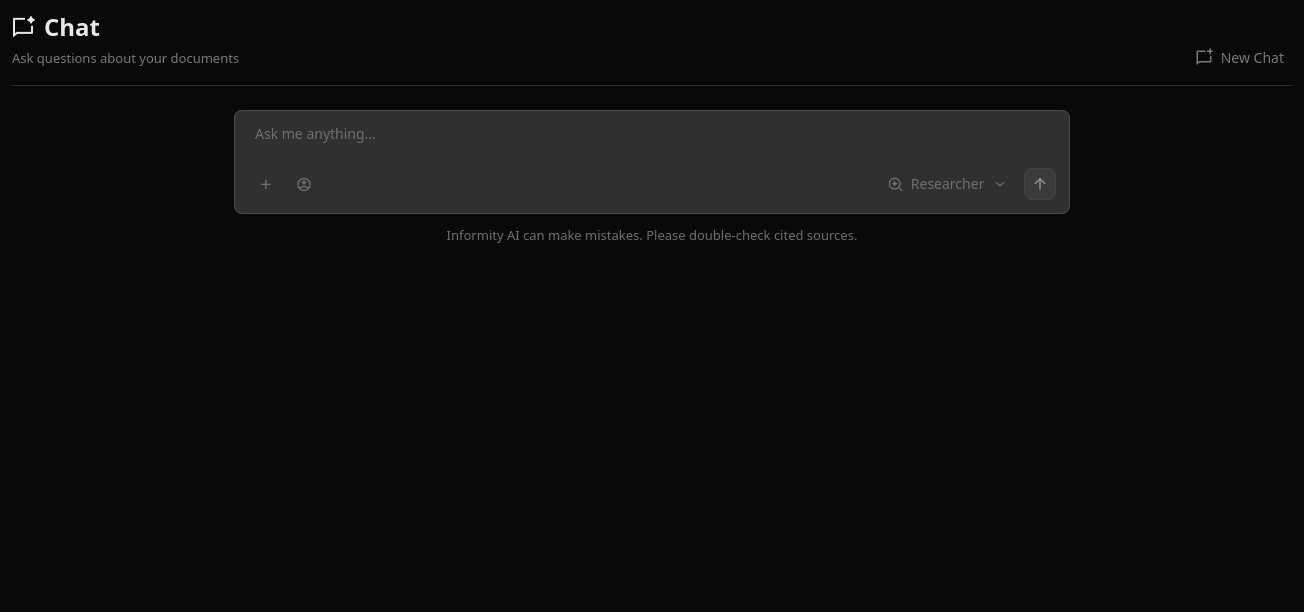
Test case: ChatView new chat behavior › submits edited text through normal stream send flow
In the text box named "Chat message input": (652, 162) [234, 110, 1070, 214], type "Original prompt"
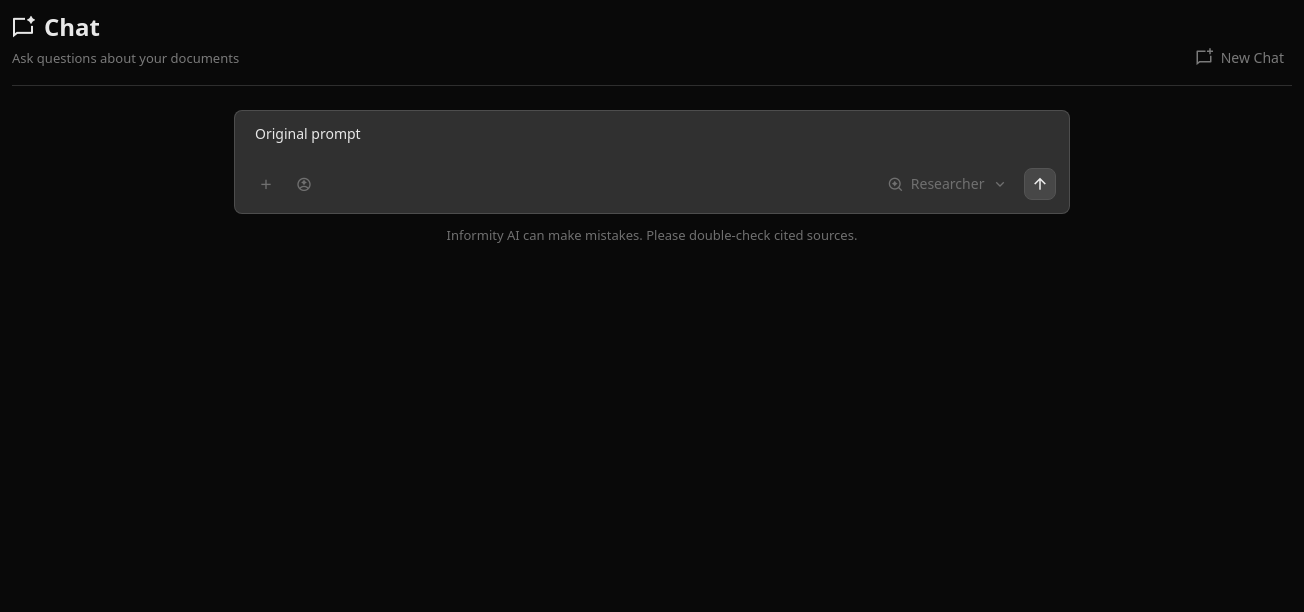
Click the button named "Send message": (1040, 184) [1024, 168, 1056, 200]
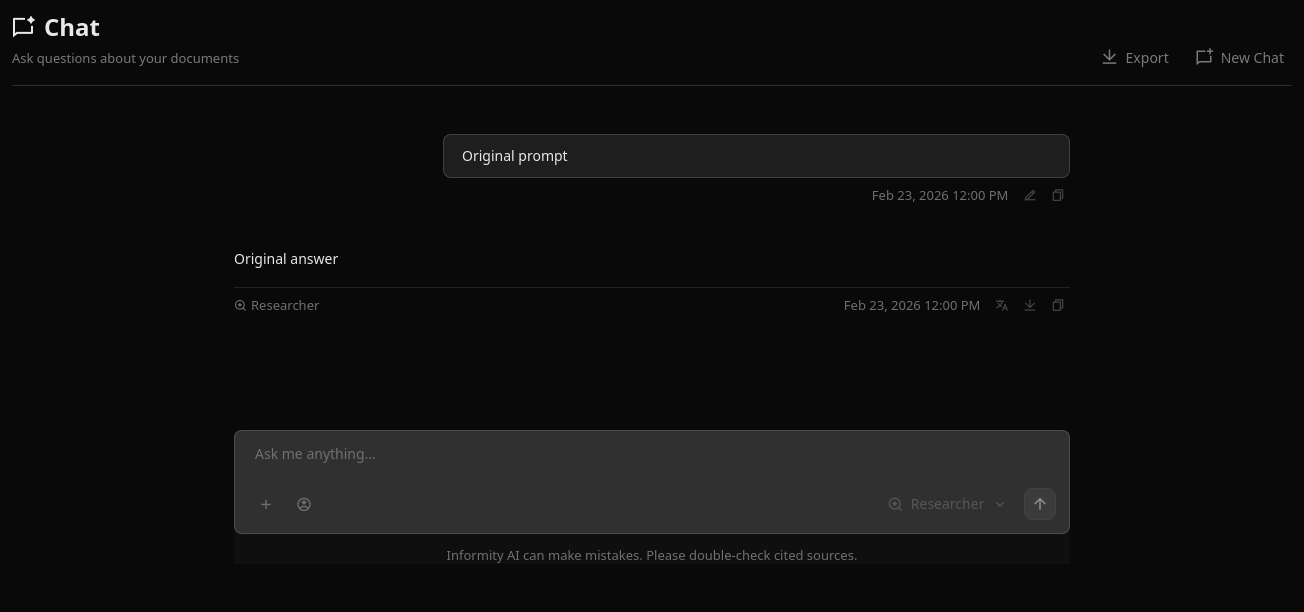
Click the button named "Edit message": (1030, 196) [1018, 184, 1042, 208]
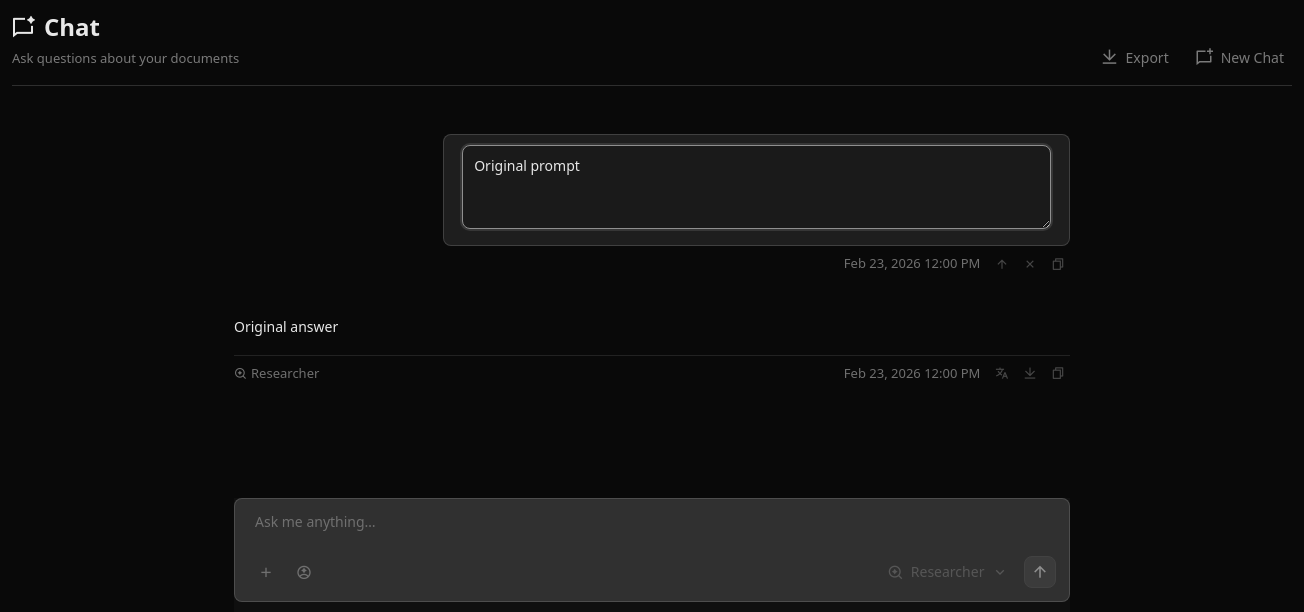
Replace the text in the text box named "Edit message" with "Edited prompt": (756, 187) [462, 144, 1051, 229]
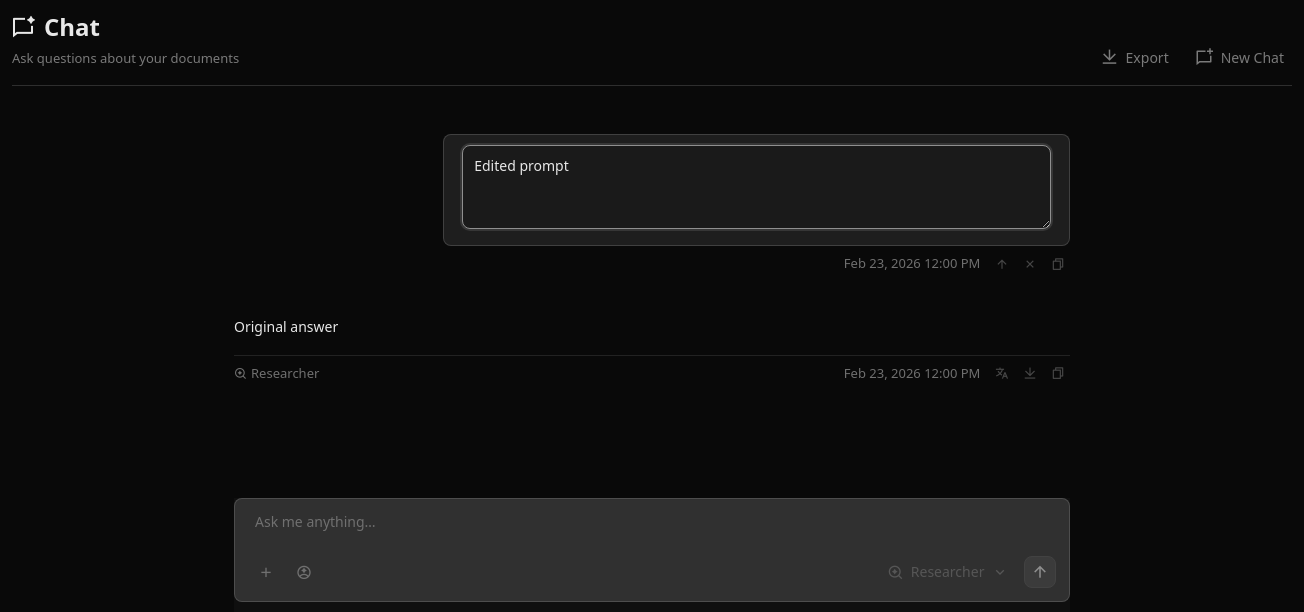
Click the button named "Submit edited message": (1002, 264) [990, 252, 1014, 276]
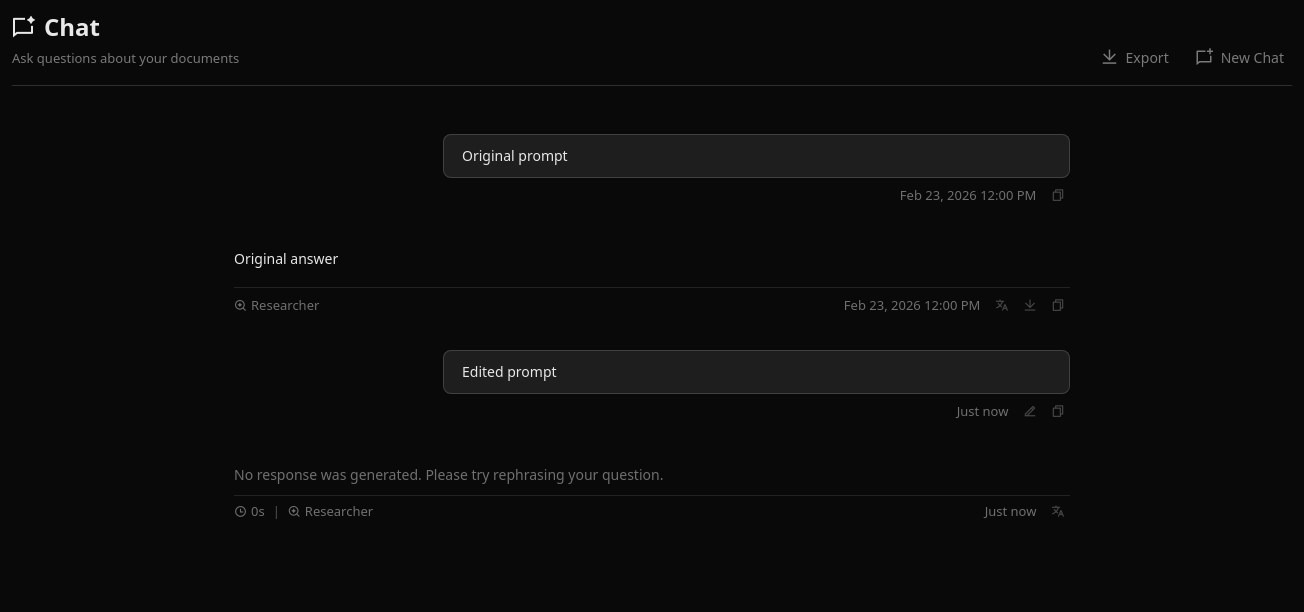
Check: the text "Edited prompt" is shown, box [462, 362, 556, 381]
